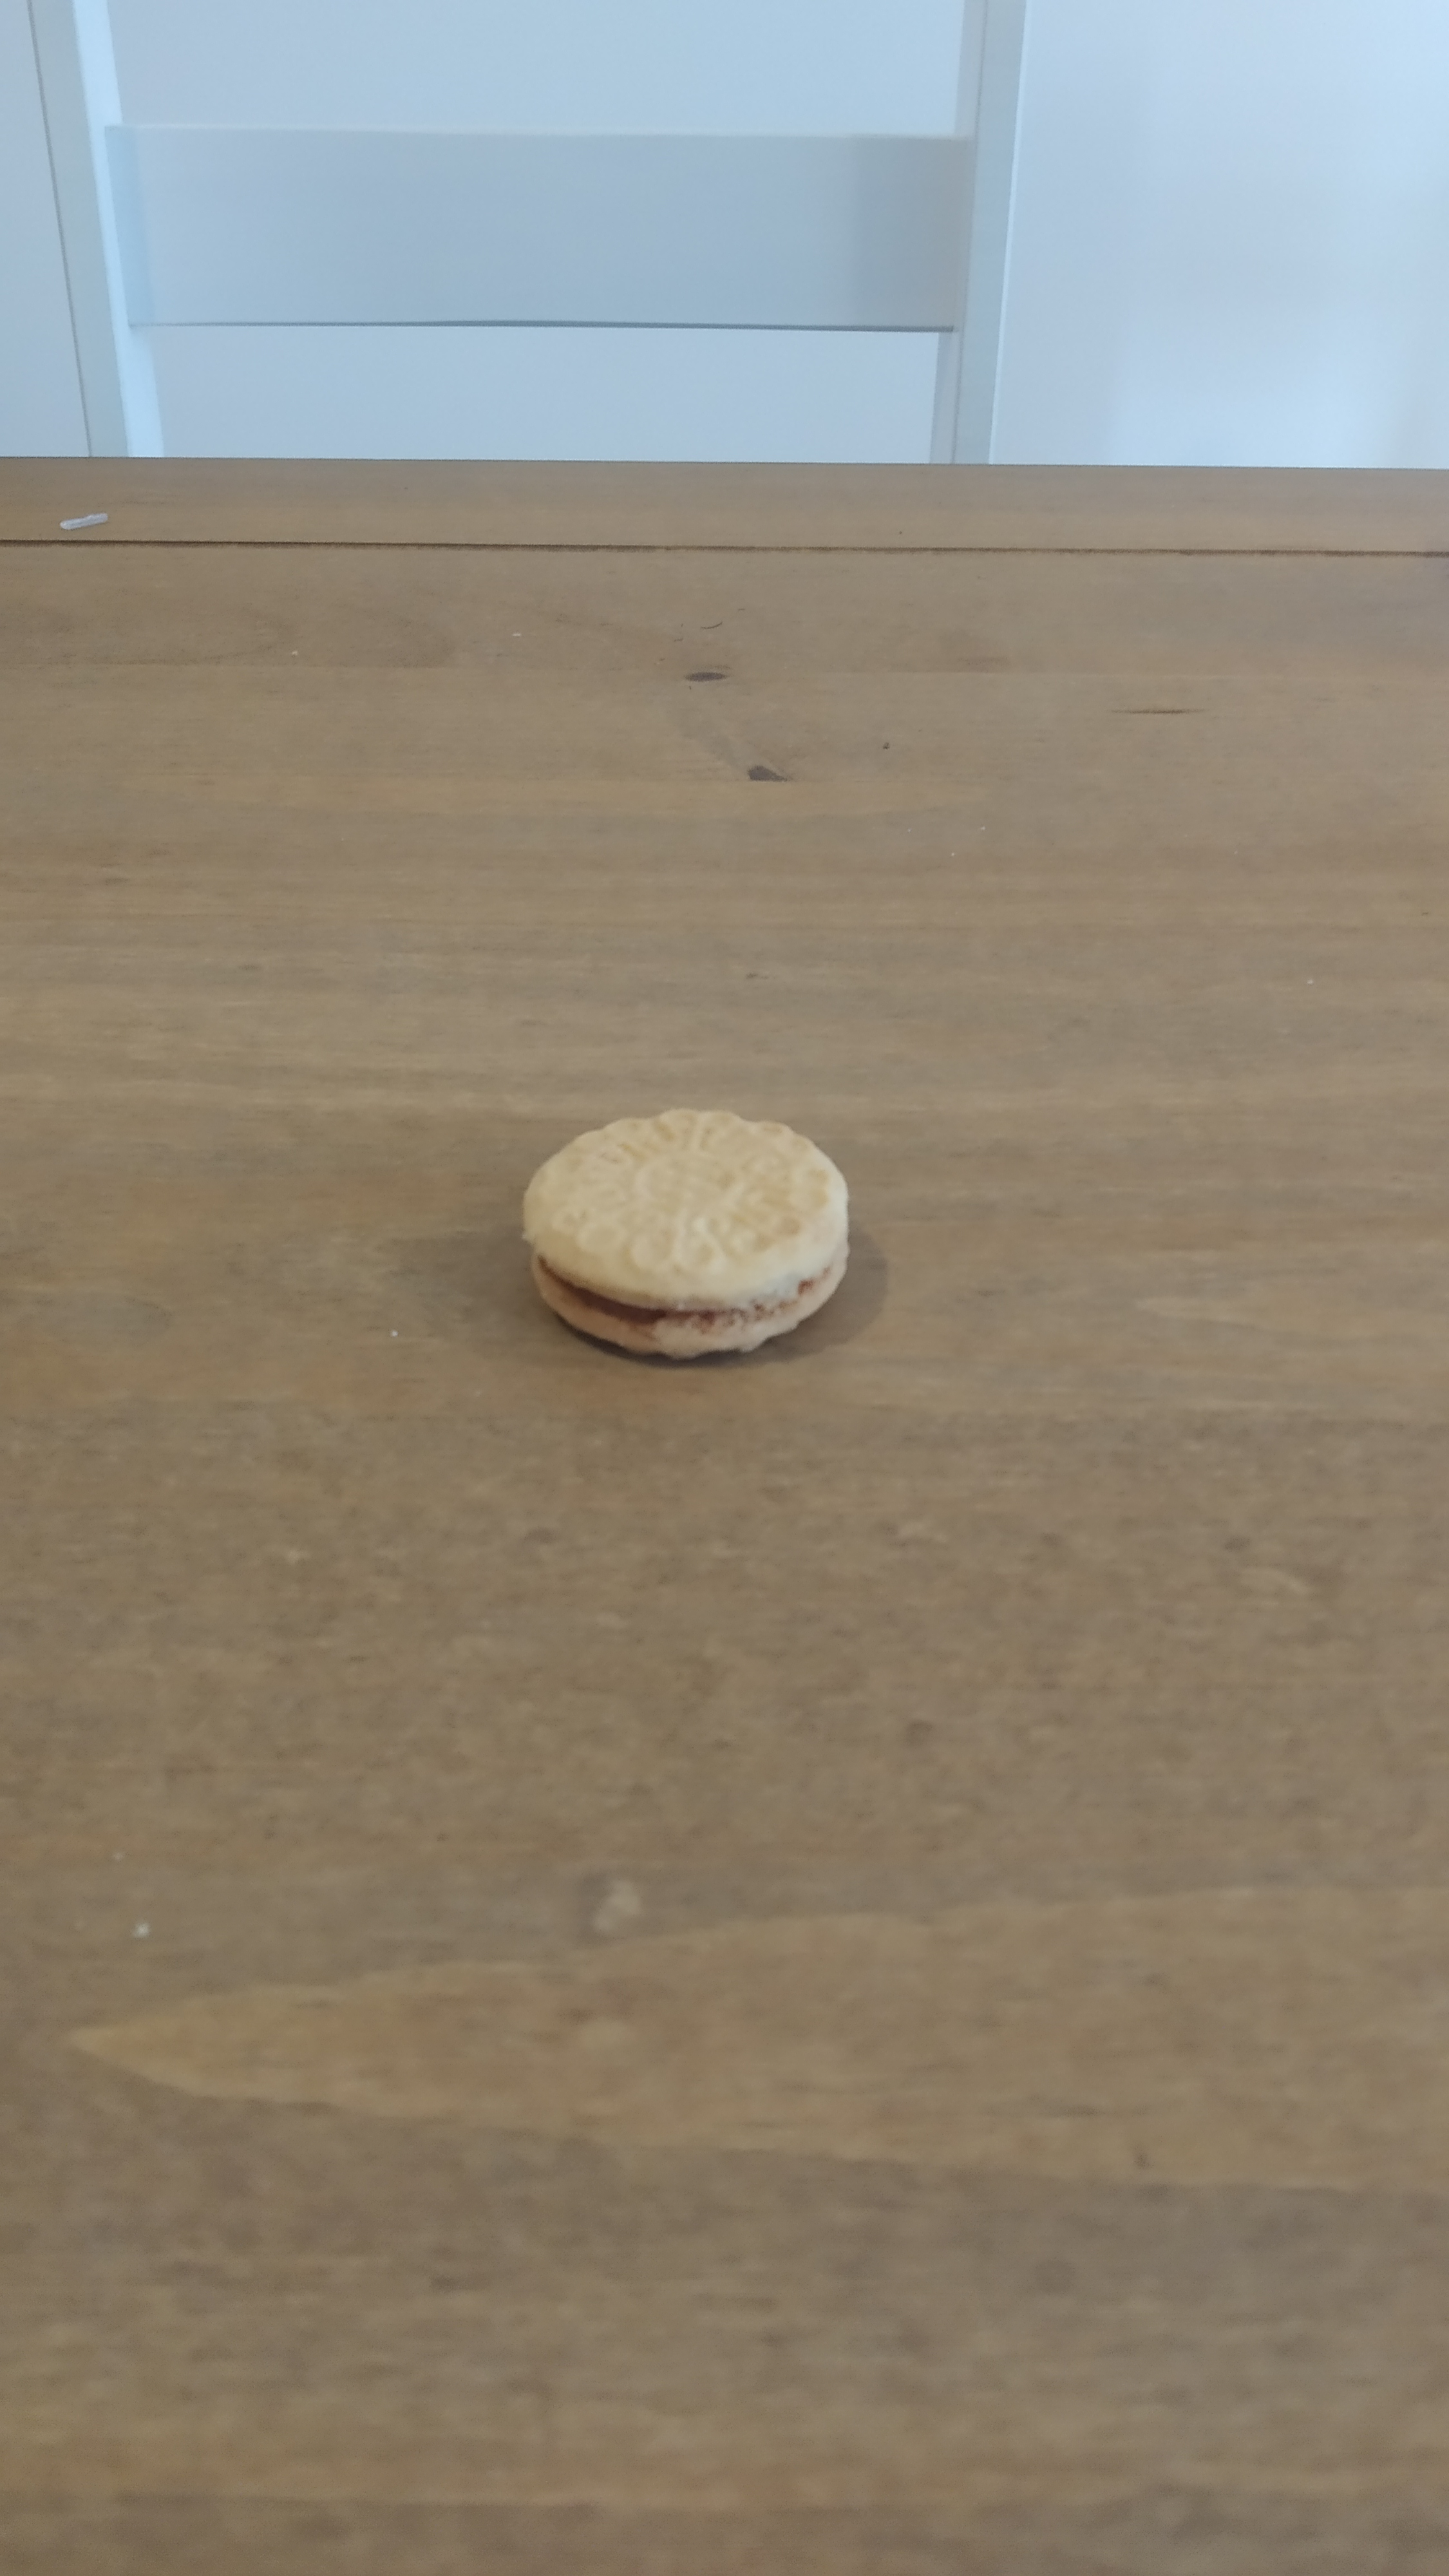lulu: (522, 1108, 853, 1359)
